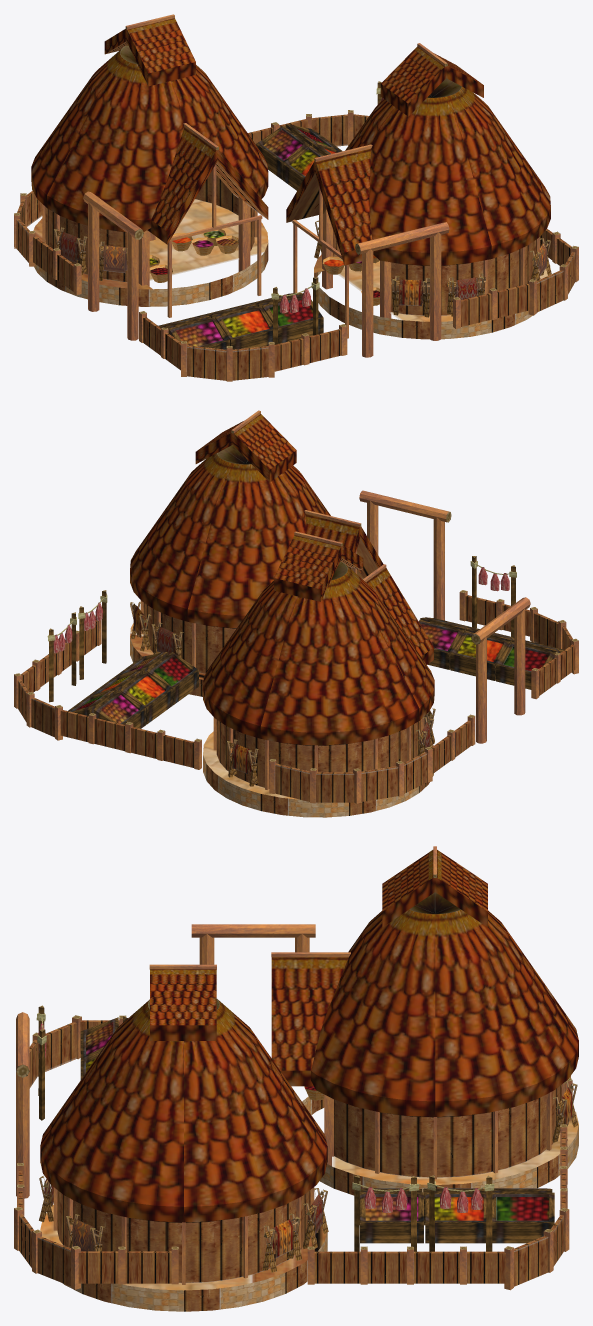
Rendered from market.dae.
3 renders of one model, top to bottom at view 1: azimuth 30°, elevation 25°; view 2: azimuth 150°, elevation 25°; view 3: azimuth 270°, elevation 25°, orthographic. The views are drawn at different scales.
Visible parts, largest first — view 1: market; view 2: market; view 3: market.
Boxes of the visible parts, bbox=[...] form: market: bbox=[14, 14, 578, 381]; market: bbox=[14, 410, 578, 817]; market: bbox=[14, 846, 578, 1311].
Size of the model in its own units: 27.78 by 28.1 by 15.83.
